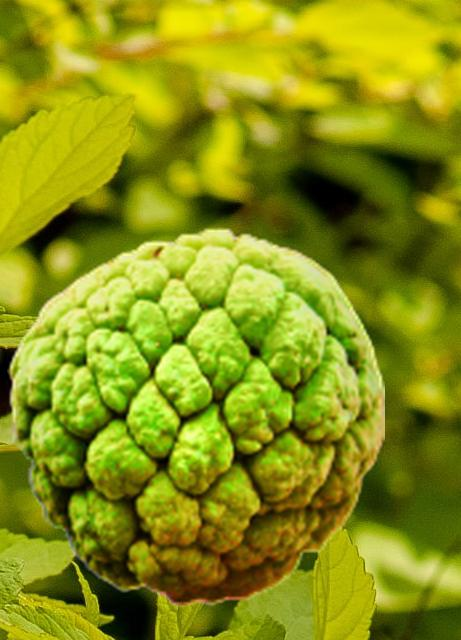atis: (7, 226, 383, 606)
